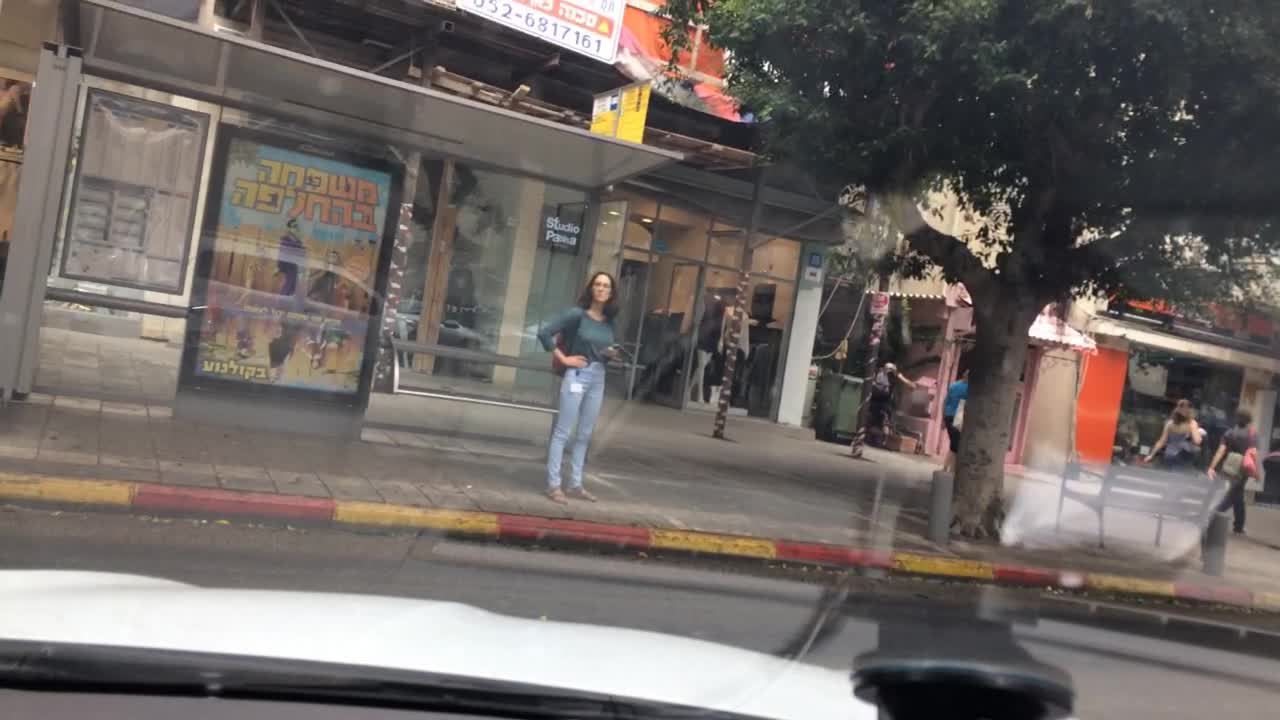person: (535, 269, 622, 503), (1208, 408, 1263, 545), (860, 360, 918, 446), (1144, 398, 1207, 471), (941, 363, 970, 475), (1115, 408, 1141, 473)
traffic sign: (869, 295, 890, 316), (652, 237, 667, 254)
